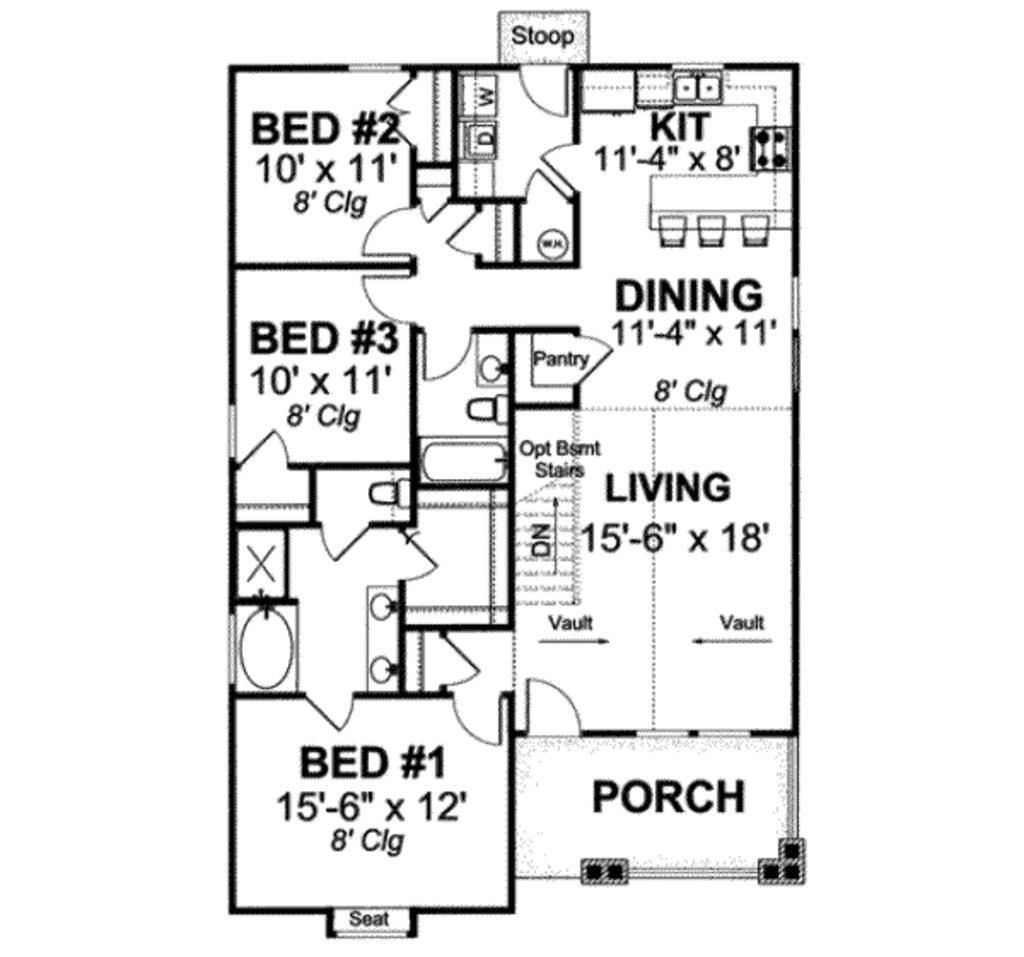door: (522, 675, 603, 742), (353, 267, 424, 343), (375, 74, 425, 158), (355, 203, 422, 258), (414, 325, 477, 381), (431, 630, 490, 684), (305, 684, 362, 737), (519, 64, 572, 121), (543, 133, 593, 192), (234, 424, 294, 473), (453, 690, 502, 748), (314, 520, 369, 564), (569, 334, 617, 383), (443, 200, 481, 253), (397, 531, 437, 577), (525, 164, 569, 205)
kitchen_bar: (646, 165, 799, 252)
large_sink: (355, 462, 412, 518), (462, 390, 509, 428)
small_sink: (364, 589, 402, 687), (480, 331, 512, 386)
stairs: (518, 403, 600, 627)
tub: (230, 596, 293, 698), (417, 430, 514, 480)
twin_sink: (655, 59, 725, 109)
window: (786, 277, 811, 383), (634, 721, 753, 742)
